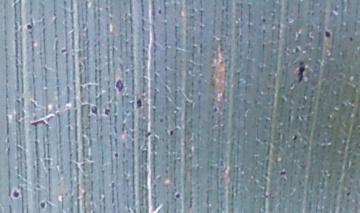tarspot: (296, 66, 306, 84), (114, 77, 124, 93), (89, 104, 100, 115), (11, 188, 20, 200), (102, 107, 112, 117), (134, 97, 142, 109), (155, 6, 164, 16), (144, 130, 153, 140), (39, 200, 46, 210), (323, 30, 331, 38), (168, 129, 176, 137), (112, 151, 120, 159), (25, 23, 32, 31), (174, 192, 181, 200), (279, 169, 286, 177), (60, 47, 68, 54), (292, 133, 297, 143), (297, 60, 305, 66), (348, 35, 354, 42), (345, 190, 351, 197), (261, 17, 267, 23)
